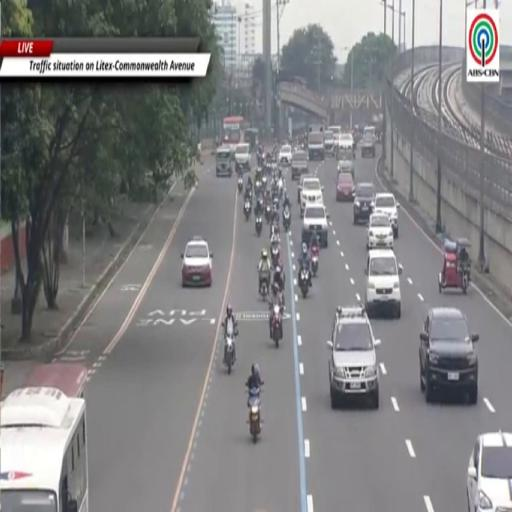bus: (0, 379, 88, 511), (24, 362, 87, 397), (223, 116, 245, 153)
car: (420, 308, 479, 404), (328, 308, 380, 408), (467, 431, 511, 511), (364, 249, 402, 318), (182, 236, 212, 286), (302, 204, 329, 248), (373, 192, 399, 237), (367, 214, 393, 249), (300, 176, 323, 215), (354, 183, 374, 224), (337, 143, 354, 178), (336, 172, 354, 201), (291, 150, 308, 180), (216, 146, 232, 177), (297, 174, 314, 203), (308, 132, 324, 161), (235, 143, 251, 171), (328, 125, 341, 152), (340, 133, 355, 156), (278, 145, 293, 166), (361, 135, 375, 157), (324, 131, 334, 155), (363, 125, 375, 139)
motorcycle: (248, 389, 261, 443), (224, 334, 235, 374), (272, 304, 282, 347), (298, 267, 309, 297), (259, 271, 269, 298), (311, 246, 318, 277), (271, 246, 279, 268), (283, 208, 290, 232), (255, 197, 263, 216), (255, 216, 262, 236), (244, 200, 251, 220), (271, 218, 279, 234), (265, 204, 271, 223), (255, 181, 261, 196), (262, 174, 267, 189), (238, 178, 243, 193), (249, 189, 253, 202)
tricycle: (439, 238, 470, 294)
